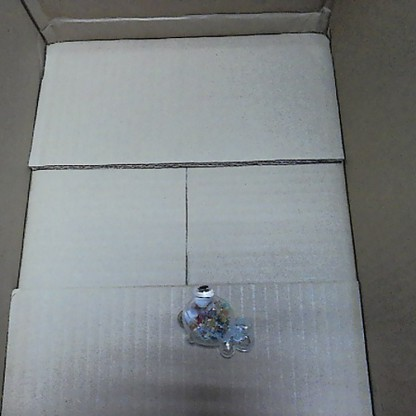whitefish: (173, 279, 254, 357)
